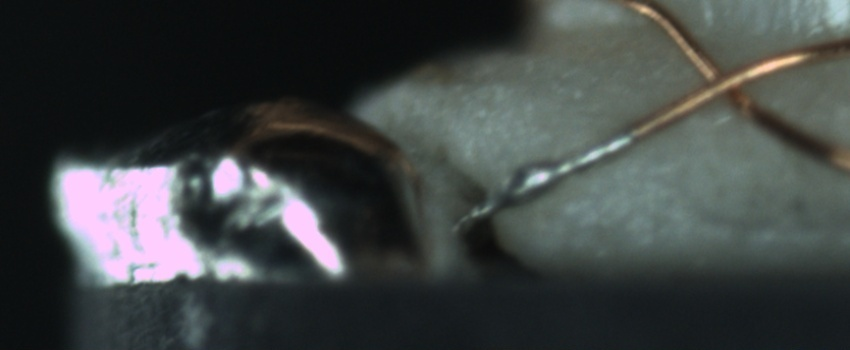CL: (682, 47, 771, 119)
TB: (494, 151, 564, 213)
TS: (455, 127, 637, 231)
TTCW: (450, 103, 674, 233)
